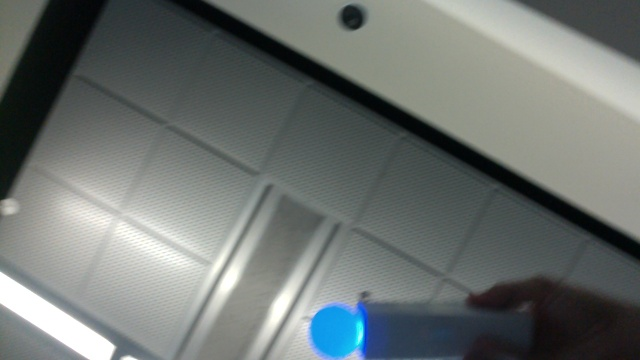wand: (309, 303, 361, 359)
